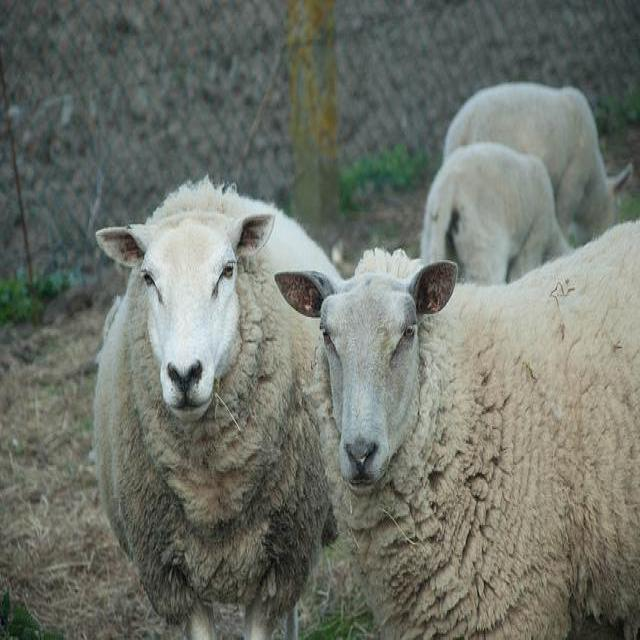Sheep: (280, 220, 639, 634), (95, 184, 338, 632), (445, 82, 636, 247), (417, 145, 576, 286)
